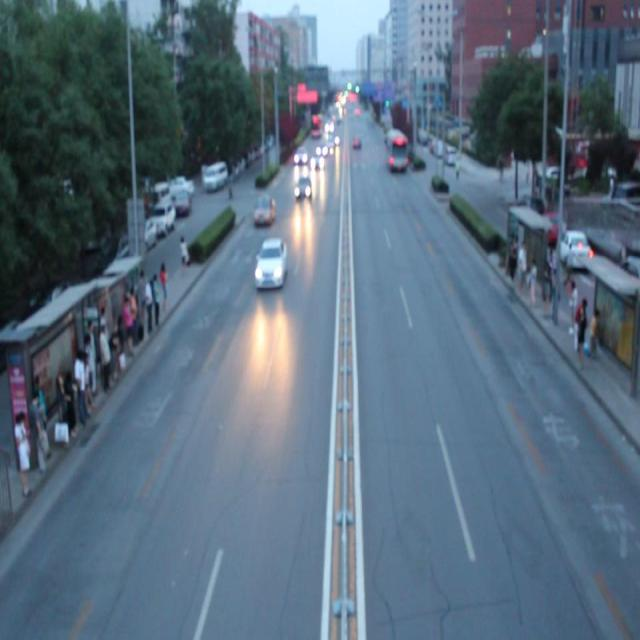car: (254, 236, 285, 288), (253, 192, 274, 225), (294, 174, 310, 199), (292, 146, 306, 165), (310, 153, 323, 169)
van: (383, 129, 408, 172)
